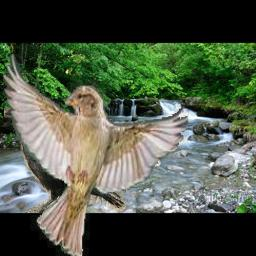Crow: (4, 105, 126, 213)
Sparrow: (3, 53, 189, 256)
